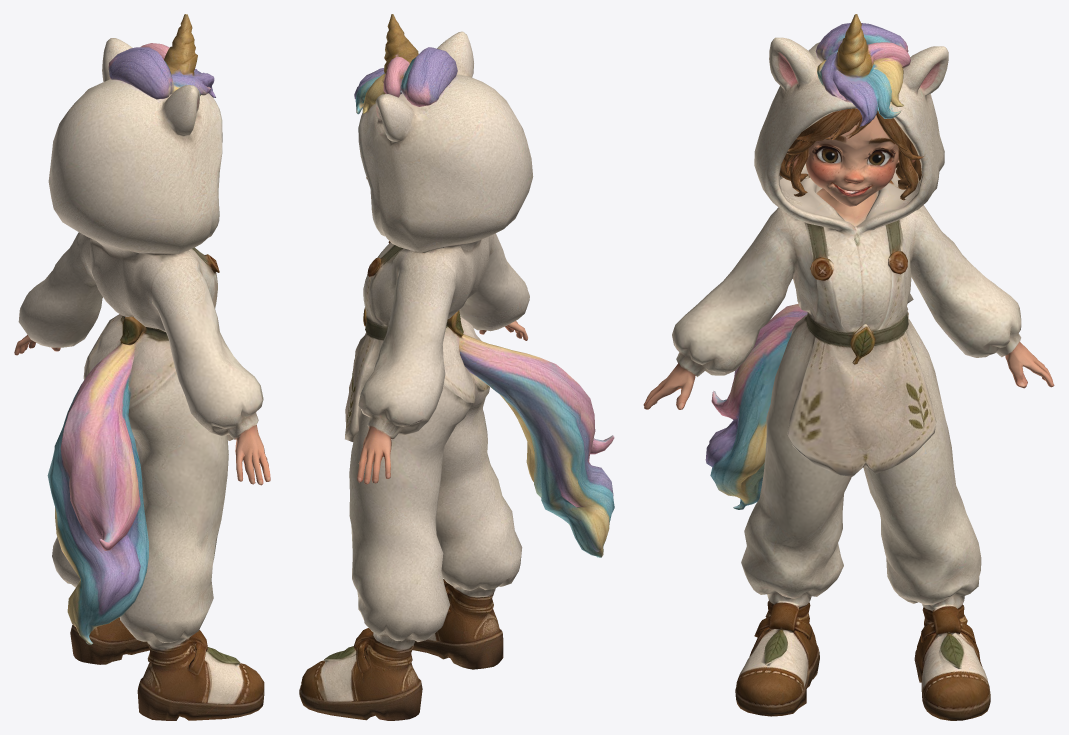
File: SM_ChefAbbie.fbx
3 views of the same model, side by side, from view 1: azimuth 30°, elevation 25°; view 2: azimuth 150°, elevation 25°; view 3: azimuth 270°, elevation 25° (orthographic). The views are drawn at different scales.
Parts seen in each view (by area): view 1: SM_ChefAbbie; view 2: SM_ChefAbbie; view 3: SM_ChefAbbie.
Boxes of the visible parts, x1,y1,x2,y2 form: SM_ChefAbbie: (14,14,270,720); SM_ChefAbbie: (299,14,614,720); SM_ChefAbbie: (643,14,1054,720).
Bounding box in the file's own units: 37.92 × 62.43 × 115.
1 material, 1 textured.
